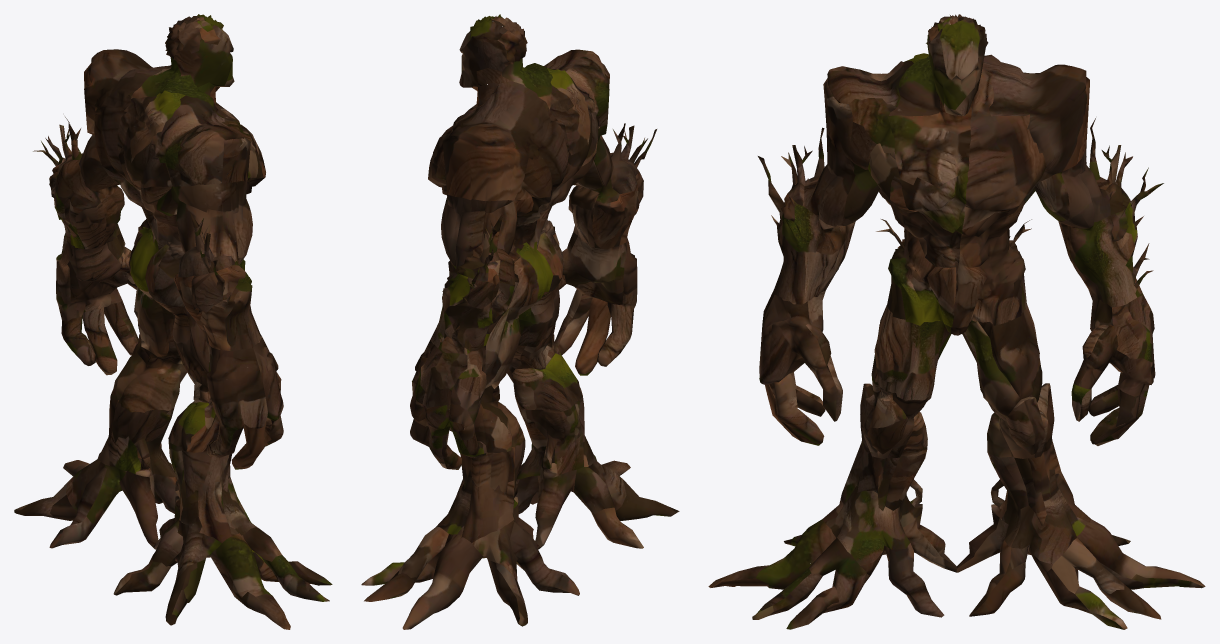
Rendered from treegolem.glb.
3 views of the same model, side by side, from view 1: azimuth 30°, elevation 25°; view 2: azimuth 150°, elevation 25°; view 3: azimuth 270°, elevation 25° (orthographic). The views are drawn at different scales.
Parts seen in each view (by area): view 1: tripo_node_cc703693; view 2: tripo_node_cc703693; view 3: tripo_node_cc703693.
Part boxes in pixels (<box>): tripo_node_cc703693: <box>14,14,332,629</box>; tripo_node_cc703693: <box>361,14,679,629</box>; tripo_node_cc703693: <box>708,14,1205,629</box>.
Bounding box in the file's own units: 0.3484 × 1 × 0.777.
Materials: 1 (1 with a texture image).
